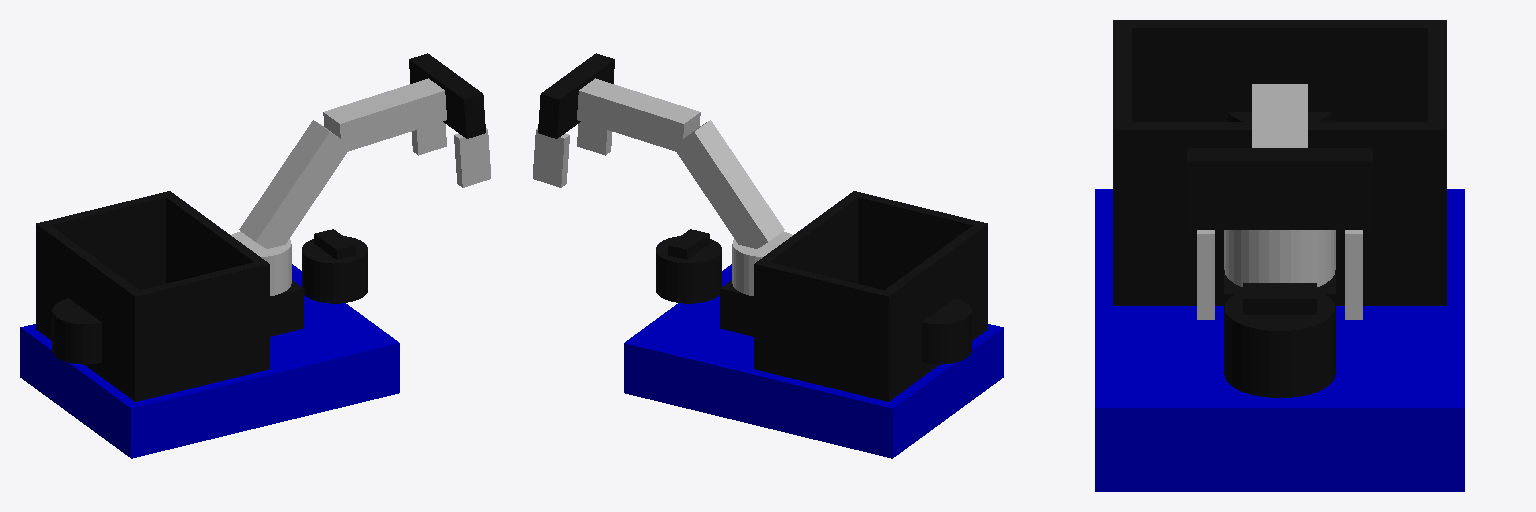
The robot description file, URDF, robot "robot":
<?xml version="1.0"?>
<robot name="robot">


  <material name="silver"><color rgba="0.75 0.75 0.75 1"/></material>
  <material name="black"><color rgba="0.1 0.1 0.1 1"/></material>
  <material name="blue"><color rgba="0 0 0.8 1"/></material>
  <material name="green"><color rgba="0 0.8 0 1"/></material>

  <link name="base_footprint"/>
  <joint name="base_joint" type="fixed"><parent link="base_footprint"/><child link="base_link"/><origin xyz="0 0 0.06" rpy="0 0 0"/></joint>

  <!-- MICRO-SENTINEL CHASSIS (0.28m - The Definitive Compact) -->
  <link name="base_link">
    <visual><origin xyz="0 0 0"/><geometry><box size="0.28 0.2 0.05"/></geometry><material name="blue"/></visual>
    <collision><origin xyz="0 0 0"/><geometry><box size="0.26 0.18 0.04"/></geometry></collision>
    <inertial>
      <origin xyz="0 0 0.05"/>
      <mass value="5.0"/>
      <inertia ixx="0.1" ixy="0" ixz="0" iyy="0.1" iyz="0" izz="0.1"/>
    </inertial>
  </link>

  <!-- UNIFIED COLLECTION BUCKET (Continuous Box) -->
  <link name="collection_bucket">
    <visual><origin xyz="0 0 0"/><geometry><box size="0.14 0.18 0.01"/></geometry><material name="black"/></visual> <!-- Bottom -->
    <visual><origin xyz="-0.065 0 0.05"/><geometry><box size="0.01 0.18 0.1"/></geometry><material name="black"/></visual> <!-- Rear -->
    <visual><origin xyz="0.065 0 0.05"/><geometry><box size="0.01 0.18 0.1"/></geometry><material name="black"/></visual> <!-- Front -->
    <visual><origin xyz="0 0.085 0.05"/><geometry><box size="0.12 0.01 0.1"/></geometry><material name="black"/></visual> <!-- Left -->
    <visual><origin xyz="0 -0.085 0.05"/><geometry><box size="0.12 0.01 0.1"/></geometry><material name="black"/></visual> <!-- Right -->
    <collision><origin xyz="0 0 0"/><geometry><box size="0.14 0.18 0.01"/></geometry></collision>
    <collision><origin xyz="-0.065 0 0.05"/><geometry><box size="0.01 0.18 0.1"/></geometry></collision>
    <collision><origin xyz="0.065 0 0.05"/><geometry><box size="0.01 0.18 0.1"/></geometry></collision>
    <collision><origin xyz="0 0.085 0.05"/><geometry><box size="0.12 0.01 0.1"/></geometry></collision>
    <collision><origin xyz="0 -0.085 0.05"/><geometry><box size="0.12 0.01 0.1"/></geometry></collision>
    <inertial><mass value="0.2"/><inertia ixx="0.001" ixy="0" ixz="0" iyy="0.001" iyz="0" izz="0.001"/></inertial>
  </link>
  <joint name="bucket_joint" type="fixed"><parent link="base_link"/><child link="collection_bucket"/><origin xyz="-0.06 0 0.03" rpy="0 0 0"/></joint>

  <!-- ARM PEDESTAL -->
  <link name="pedestal">
    <visual><origin xyz="0 0 0"/><geometry><box size="0.06 0.06 0.04"/></geometry><material name="black"/></visual>
    <collision><origin xyz="0 0 0"/><geometry><box size="0.06 0.06 0.04"/></geometry></collision>
    <inertial><mass value="0.2"/><inertia ixx="0.001" ixy="0" ixz="0" iyy="0.001" iyz="0" izz="0.001"/></inertial>
  </link>
  <joint name="pedestal_joint" type="fixed"><parent link="base_link"/><child link="pedestal"/><origin xyz="0.05 0 0.045" rpy="0 0 0"/></joint>

  <!-- MECANUM WHEELS (Direct Local Mesh Calibration) -->
  <link name="front_left_wheel">
    <visual>
      <origin xyz="0 0 0" rpy="1.5707 0 0"/>
      <geometry>
        <mesh filename="package://robot/meshes/mecanum_wheel.dae" scale="0.001 0.001 0.001"/>
      </geometry>
      <material name="black">
        <color rgba="0.1 0.1 0.1 1.0"/>
      </material>
    </visual>
    <collision><origin xyz="0 0 0" rpy="1.5707 0 0"/><geometry><cylinder radius="0.03" length="0.04"/></geometry></collision>
    <inertial><mass value="0.25"/><inertia ixx="0.001" ixy="0" ixz="0" iyy="0.001" iyz="0" izz="0.001"/></inertial>
  </link>
  <link name="front_right_wheel">
    <visual>
      <origin xyz="0 0 0" rpy="1.5707 0 0"/>
      <geometry>
        <mesh filename="package://robot/meshes/mecanum_wheel.dae" scale="0.001 0.001 0.001"/>
      </geometry>
      <material name="black">
        <color rgba="0.1 0.1 0.1 1.0"/>
      </material>
    </visual>
    <collision><origin xyz="0 0 0" rpy="1.5707 0 0"/><geometry><cylinder radius="0.03" length="0.04"/></geometry></collision>
    <inertial><mass value="0.25"/><inertia ixx="0.001" ixy="0" ixz="0" iyy="0.001" iyz="0" izz="0.001"/></inertial>
  </link>
  <link name="rear_left_wheel">
    <visual>
      <origin xyz="0 0 0" rpy="1.5707 0 0"/>
      <geometry>
        <mesh filename="package://robot/meshes/mecanum_wheel.dae" scale="0.001 0.001 0.001"/>
      </geometry>
      <material name="black">
        <color rgba="0.1 0.1 0.1 1.0"/>
      </material>
    </visual>
    <collision><origin xyz="0 0 0" rpy="1.5707 0 0"/><geometry><cylinder radius="0.03" length="0.04"/></geometry></collision>
    <inertial><mass value="0.25"/><inertia ixx="0.001" ixy="0" ixz="0" iyy="0.001" iyz="0" izz="0.001"/></inertial>
  </link>
  <link name="rear_right_wheel">
    <visual>
      <origin xyz="0 0 0" rpy="1.5707 0 0"/>
      <geometry>
        <mesh filename="package://robot/meshes/mecanum_wheel.dae" scale="0.001 0.001 0.001"/>
      </geometry>
      <material name="black">
        <color rgba="0.1 0.1 0.1 1.0"/>
      </material>
    </visual>
    <collision><origin xyz="0 0 0" rpy="1.5707 0 0"/><geometry><cylinder radius="0.03" length="0.04"/></geometry></collision>
    <inertial><mass value="0.25"/><inertia ixx="0.001" ixy="0" ixz="0" iyy="0.001" iyz="0" izz="0.001"/></inertial>
  </link>

  <joint name="front_left_wheel_joint" type="continuous"><parent link="base_link"/><child link="front_left_wheel"/><origin xyz="0.10 0.12 -0.0275" rpy="0 0 0"/><axis xyz="0 1 0"/></joint>
  <joint name="front_right_wheel_joint" type="continuous"><parent link="base_link"/><child link="front_right_wheel"/><origin xyz="0.10 -0.12 -0.0275" rpy="0 0 0"/><axis xyz="0 1 0"/></joint>
  <joint name="rear_left_wheel_joint" type="continuous"><parent link="base_link"/><child link="rear_left_wheel"/><origin xyz="-0.10 0.12 -0.0275" rpy="0 0 0"/><axis xyz="0 1 0"/></joint>
  <joint name="rear_right_wheel_joint" type="continuous"><parent link="base_link"/><child link="rear_right_wheel"/><origin xyz="-0.10 -0.12 -0.0275" rpy="0 0 0"/><axis xyz="0 1 0"/></joint>

  <!-- MANIPULATOR (Grabbing Pose) -->
  <link name="arm_base">
    <visual><geometry><cylinder radius="0.03" length="0.04"/></geometry><material name="silver"/></visual>
    <inertial><mass value="0.001"/><inertia ixx="0.0001" ixy="0" ixz="0" iyy="0.0001" iyz="0" izz="0.0001"/></inertial>
  </link>
  <joint name="arm_mount" type="fixed"><parent link="pedestal"/><child link="arm_base"/><origin xyz="0 0 0.04" rpy="0 0 0"/></joint>

  <link name="arm_upper">
    <visual><origin xyz="0 0 0.06" rpy="0 0 0"/><geometry><box size="0.03 0.03 0.12"/></geometry><material name="silver"/></visual>
    <inertial><mass value="0.001"/><inertia ixx="0.0001" ixy="0" ixz="0" iyy="0.0001" iyz="0" izz="0.0001"/></inertial>
  </link>
  <joint name="j1" type="revolute"><parent link="arm_base"/><child link="arm_upper"/><origin xyz="0 0 0.02" rpy="0 0.7 0"/><axis xyz="0 1 0"/><limit lower="-1.57" upper="1.57" effort="10" velocity="1"/></joint>

  <link name="arm_lower">
    <visual><origin xyz="0 0 0.06" rpy="0 0 0"/><geometry><box size="0.03 0.03 0.12"/></geometry><material name="silver"/></visual>
    <inertial><mass value="0.001"/><inertia ixx="0.0001" ixy="0" ixz="0" iyy="0.0001" iyz="0" izz="0.0001"/></inertial>
  </link>
  <joint name="j2" type="revolute"><parent link="arm_upper"/><child link="arm_lower"/><origin xyz="0 0 0.12" rpy="0 0.8 0"/><axis xyz="0 1 0"/><limit lower="-1.57" upper="1.57" effort="10" velocity="1"/></joint>

  <link name="gripper_head">
    <visual><origin xyz="0 0 0"/><geometry><box size="0.04 0.1 0.02"/></geometry><material name="black"/></visual>
    <collision><origin xyz="0 0 0"/><geometry><box size="0.04 0.1 0.02"/></geometry></collision>
    <inertial><mass value="0.001"/><inertia ixx="0.0001" ixy="0" ixz="0" iyy="0.0001" iyz="0" izz="0.0001"/></inertial>
  </link>
  <joint name="gripper_base_joint" type="revolute"><parent link="arm_lower"/><child link="gripper_head"/><origin xyz="0 0 0.12" rpy="0 0 0"/><axis xyz="0 1 0"/><limit lower="0" upper="0" effort="0" velocity="0"/></joint>

  <!-- ACTIVE GRIPPER (Closes to carry objects) -->
  <link name="finger_left">
    <visual><origin xyz="0.025 0 0" rpy="0 0 0"/><geometry><box size="0.05 0.01 0.03"/></geometry><material name="silver"/></visual>
    <collision><origin xyz="0.025 0 0" rpy="0 0 0"/><geometry><box size="0.05 0.01 0.03"/></geometry></collision>
    <inertial><mass value="0.01"/><inertia ixx="0.0001" ixy="0" ixz="0" iyy="0.0001" iyz="0" izz="0.0001"/></inertial>
  </link>
  <joint name="f_left_j" type="revolute">
    <parent link="gripper_head"/><child link="finger_left"/><origin xyz="0.02 0.04 0" rpy="0 0 0"/>
    <axis xyz="0 0 1"/><limit lower="-0.8" upper="0.8" effort="1.0" velocity="0.5"/>
  </joint>
  
  <link name="finger_right">
    <visual><origin xyz="0.025 0 0" rpy="0 0 0"/><geometry><box size="0.05 0.01 0.03"/></geometry><material name="silver"/></visual>
    <collision><origin xyz="0.025 0 0" rpy="0 0 0"/><geometry><box size="0.05 0.01 0.03"/></geometry></collision>
    <inertial><mass value="0.01"/><inertia ixx="0.0001" ixy="0" ixz="0" iyy="0.0001" iyz="0" izz="0.0001"/></inertial>
  </link>
  <joint name="f_right_j" type="revolute">
    <parent link="gripper_head"/><child link="finger_right"/><origin xyz="0.02 -0.04 0" rpy="0 0 0"/>
    <axis xyz="0 0 1"/><limit lower="-0.8" upper="0.8" effort="1.0" velocity="0.5"/>
  </joint>

  <!-- SENSORS -->
  <link name="imu_link">
    <inertial><mass value="0.01"/><inertia ixx="0.0001" ixy="0" ixz="0" iyy="0.0001" iyz="0" izz="0.0001"/></inertial>
  </link>
  <joint name="imu_joint" type="fixed"><parent link="base_link"/><child link="imu_link"/><origin xyz="0 0 0" rpy="0 0 0"/></joint>

  <link name="front_laser_link">
    <visual><geometry><cylinder radius="0.03" length="0.04"/></geometry><material name="black"/></visual>
    <collision><geometry><cylinder radius="0.03" length="0.04"/></geometry></collision>
    <inertial><mass value="0.01"/><inertia ixx="0.0001" ixy="0" ixz="0" iyy="0.0001" iyz="0" izz="0.0001"/></inertial>
  </link>
  <joint name="front_laser_joint" type="fixed"><parent link="base_link"/><child link="front_laser_link"/><origin xyz="0.13 0 0.06" rpy="0 0 0"/></joint>

  <link name="rear_laser_link">
    <visual><geometry><cylinder radius="0.03" length="0.04"/></geometry><material name="black"/></visual>
    <collision><geometry><cylinder radius="0.03" length="0.04"/></geometry></collision>
    <inertial><mass value="0.01"/><inertia ixx="0.0001" ixy="0" ixz="0" iyy="0.0001" iyz="0" izz="0.0001"/></inertial>
  </link>
  <joint name="rear_laser_joint" type="fixed"><parent link="base_link"/><child link="rear_laser_link"/><origin xyz="-0.13 0 0.06" rpy="0 0 3.14159"/></joint>

  <!-- VISION CAMERA (No collision, mounted with front lidar) -->
  <link name="camera_link">
    <visual><geometry><box size="0.02 0.04 0.02"/></geometry><material name="black"/></visual>
    <inertial><mass value="0.001"/><inertia ixx="0.0001" ixy="0" ixz="0" iyy="0.0001" iyz="0" izz="0.0001"/></inertial>
  </link>
  <joint name="camera_joint" type="fixed"><parent link="base_link"/><child link="camera_link"/><origin xyz="0.13 0 0.08" rpy="0 0 0"/></joint>

  <!-- GAZEBO -->
  <gazebo reference="imu_link">
    <sensor name="imu_sensor" type="imu">
      <always_on>1</always_on>
      <update_rate>100</update_rate>
      <visualize>true</visualize>
      <topic>imu</topic>
    </sensor>
  </gazebo>
  
  <gazebo reference="front_laser_link">
    <sensor name="front_scan" type="gpu_lidar">
      <topic>/model/robot/front_scan</topic>
      <gz_frame_id>front_laser_link</gz_frame_id>
      <update_rate>10</update_rate>
      <lidar>
        <scan><horizontal><samples>180</samples><resolution>1</resolution><min_angle>-1.57</min_angle><max_angle>1.57</max_angle></horizontal></scan>
        <range><min>0.05</min><max>12.0</max><resolution>0.01</resolution></range>
      </lidar>
      <always_on>1</always_on><visualize>true</visualize>
    </sensor>
  </gazebo>

  <gazebo reference="rear_laser_link">
    <sensor name="rear_scan" type="gpu_lidar">
      <topic>/model/robot/rear_scan</topic>
      <gz_frame_id>rear_laser_link</gz_frame_id>
      <update_rate>10</update_rate>
      <lidar>
        <scan><horizontal><samples>180</samples><resolution>1</resolution><min_angle>-1.57</min_angle><max_angle>1.57</max_angle></horizontal></scan>
        <range><min>0.05</min><max>12.0</max><resolution>0.01</resolution></range>
      </lidar>
      <always_on>1</always_on><visualize>true</visualize>
    </sensor>
  </gazebo>
  
  <gazebo reference="camera_link">
    <sensor name="vision_camera" type="camera">
      <topic>/model/robot/camera</topic>
      <gz_frame_id>camera_link</gz_frame_id>
      <camera>
        <horizontal_fov>1.047</horizontal_fov>
        <image><width>640</width><height>480</height><format>R8G8B8</format></image>
        <clip><near>0.1</near><far>100</far></clip>
      </camera>
      <always_on>1</always_on>
      <update_rate>30</update_rate>
      <visualize>true</visualize>
    </sensor>
  </gazebo>

  <!-- GAZEBO MATERIALS -->
  <gazebo reference="front_left_wheel"><material>Gazebo/DarkGrey</material></gazebo>
  <gazebo reference="front_right_wheel"><material>Gazebo/DarkGrey</material></gazebo>
  <gazebo reference="rear_left_wheel"><material>Gazebo/DarkGrey</material></gazebo>
  <gazebo reference="rear_right_wheel"><material>Gazebo/DarkGrey</material></gazebo>
  <gazebo reference="base_link"><material>Gazebo/Grey</material></gazebo>

  <gazebo>
    <!-- ⚠️ MOTION ENGINE: Do NOT modify topics below. Synchronized with Bridge. -->
    <plugin filename="gz-sim-mecanum-drive-system" name="gz::sim::systems::MecanumDrive">
      <front_left_joint>front_left_wheel_joint</front_left_joint>
      <front_right_joint>front_right_wheel_joint</front_right_joint>
      <back_left_joint>rear_left_wheel_joint</back_left_joint>
      <back_right_joint>rear_right_wheel_joint</back_right_joint>
      <wheelbase>0.2000</wheelbase>
      <wheel_separation>0.24</wheel_separation><wheel_radius>0.0300</wheel_radius>
      <topic>/cmd_vel</topic>
      <odom_topic>/odom</odom_topic>
      <tf_topic>/tf</tf_topic>
      <frame_id>odom</frame_id>
      <child_frame_id>base_footprint</child_frame_id>
    </plugin>
    <plugin filename="gz-sim-joint-state-publisher-system" name="gz::sim::systems::JointStatePublisher">
      <topic>/model/robot/joint_states</topic>
    </plugin>
    <plugin filename="gz-sim-odometry-publisher-system" name="gz::sim::systems::OdometryPublisher">
      <odom_frame>map</odom_frame>
      <robot_base_frame>base_footprint</robot_base_frame>
      <odom_topic>/model/robot/ground_truth</odom_topic>
    </plugin>
    <plugin filename="gz-sim-joint-position-controller-system" name="gz::sim::systems::JointPositionController">
      <joint_name>j1</joint_name><topic>/arm/j1/cmd_pos</topic>
      <p_gain>5000</p_gain><i_gain>0.1</i_gain><d_gain>10.0</d_gain>
    </plugin>
    <plugin filename="gz-sim-joint-position-controller-system" name="gz::sim::systems::JointPositionController">
      <joint_name>j2</joint_name><topic>/arm/j2/cmd_pos</topic>
      <p_gain>5000</p_gain><i_gain>0.1</i_gain><d_gain>10.0</d_gain>
    </plugin>
    <plugin filename="gz-sim-joint-position-controller-system" name="gz::sim::systems::JointPositionController">
      <joint_name>f_left_j</joint_name><topic>/gripper/left/cmd_pos</topic>
    </plugin>
    <plugin filename="gz-sim-joint-position-controller-system" name="gz::sim::systems::JointPositionController">
      <joint_name>f_right_j</joint_name><topic>/gripper/right/cmd_pos</topic>
    </plugin>
    <plugin filename="gz-sim-detachable-joint-system" name="gz::sim::systems::DetachableJoint">
      <parent_link>gripper_head</parent_link>
      <child_model>target_alpha</child_model>
      <child_link>core_link</child_link>
      <topic>/mission/grab_control</topic>
    </plugin>
    <!-- ADVANCED KINEMATICS INSTALLED: Simulates planar omni-directional drive mapping -->
    <plugin filename="gz-sim-velocity-control-system" name="gz::sim::systems::VelocityControl">
      <link_name>base_footprint</link_name>
      <topic>/cmd_vel</topic>
    </plugin>
  </gazebo>
  <!-- MECANUM KINEMATICS: Wheels frictionless to accommodate VelocityControl Magic -->
  <gazebo reference="front_left_wheel">
    <mu1>0.0</mu1><mu2>0.0</mu2><fdir1>1 1 0</fdir1><kp>1000000.0</kp><kd>100.0</kd>
  </gazebo>
  <gazebo reference="front_right_wheel">
    <mu1>0.0</mu1><mu2>0.0</mu2><fdir1>1 -1 0</fdir1><kp>1000000.0</kp><kd>100.0</kd>
  </gazebo>
  <gazebo reference="rear_left_wheel">
    <mu1>0.0</mu1><mu2>0.0</mu2><fdir1>1 -1 0</fdir1><kp>1000000.0</kp><kd>100.0</kd>
  </gazebo>
  <gazebo reference="rear_right_wheel">
    <mu1>0.0</mu1><mu2>0.0</mu2><fdir1>1 1 0</fdir1><kp>1000000.0</kp><kd>100.0</kd>
  </gazebo>

</robot>

--- Facts derived from the render (not from the file) ---
Views: 3 orthographic renders of the robot side by side, from view 1: azimuth 30°, elevation 25°; view 2: azimuth 150°, elevation 25°; view 3: azimuth 270°, elevation 25°.
Robot: robot — 18 links, 17 joints (5 revolute, 4 continuous, 8 fixed); root link base_footprint; default pose: every joint at zero.
Visible links, largest first — view 1: collection_bucket, base_link, arm_upper, arm_lower, front_laser_link, gripper_head, rear_laser_link, finger_right, pedestal, arm_base, finger_left, camera_link; view 2: collection_bucket, base_link, arm_upper, arm_lower, front_laser_link, gripper_head, rear_laser_link, finger_left, pedestal, arm_base, finger_right, camera_link; view 3: collection_bucket, base_link, gripper_head, front_laser_link, arm_base, arm_lower, camera_link, finger_left, finger_right, pedestal.
Link boxes in pixels (x1=…): collection_bucket: x1=36, y1=191, x2=269, y2=401; base_link: x1=20, y1=264, x2=399, y2=458; arm_upper: x1=239, y1=120, x2=346, y2=248; arm_lower: x1=323, y1=78, x2=446, y2=152; front_laser_link: x1=302, y1=236, x2=367, y2=303; gripper_head: x1=409, y1=53, x2=485, y2=138; rear_laser_link: x1=52, y1=298, x2=101, y2=364; finger_right: x1=454, y1=128, x2=490, y2=187; pedestal: x1=270, y1=280, x2=303, y2=336; arm_base: x1=231, y1=231, x2=291, y2=295; finger_left: x1=412, y1=122, x2=446, y2=155; camera_link: x1=314, y1=229, x2=355, y2=259; collection_bucket: x1=754, y1=191, x2=987, y2=401; base_link: x1=624, y1=264, x2=1003, y2=458; arm_upper: x1=673, y1=120, x2=784, y2=248; arm_lower: x1=577, y1=78, x2=700, y2=151; front_laser_link: x1=656, y1=236, x2=721, y2=303; gripper_head: x1=538, y1=53, x2=614, y2=138; rear_laser_link: x1=922, y1=298, x2=971, y2=364; finger_left: x1=533, y1=128, x2=569, y2=187; pedestal: x1=720, y1=280, x2=753, y2=336; arm_base: x1=732, y1=231, x2=792, y2=295; finger_right: x1=577, y1=122, x2=611, y2=155; camera_link: x1=668, y1=229, x2=709, y2=259; collection_bucket: x1=1113, y1=20, x2=1446, y2=305; base_link: x1=1095, y1=189, x2=1464, y2=491; gripper_head: x1=1187, y1=148, x2=1372, y2=229; front_laser_link: x1=1224, y1=290, x2=1335, y2=397; arm_base: x1=1224, y1=230, x2=1335, y2=286; arm_lower: x1=1252, y1=84, x2=1307, y2=147; camera_link: x1=1243, y1=283, x2=1316, y2=314; finger_left: x1=1345, y1=230, x2=1362, y2=319; finger_right: x1=1197, y1=230, x2=1214, y2=319; pedestal: x1=1224, y1=270, x2=1335, y2=307.
Bounding box of the posed robot: 0.4269 × 0.2 × 0.2509 m (x, y, z).
Meshes: 1 distinct files referenced, 0 mesh visuals loaded (none loaded); not drawn: 4 (reference not matched to a file when rendering).
